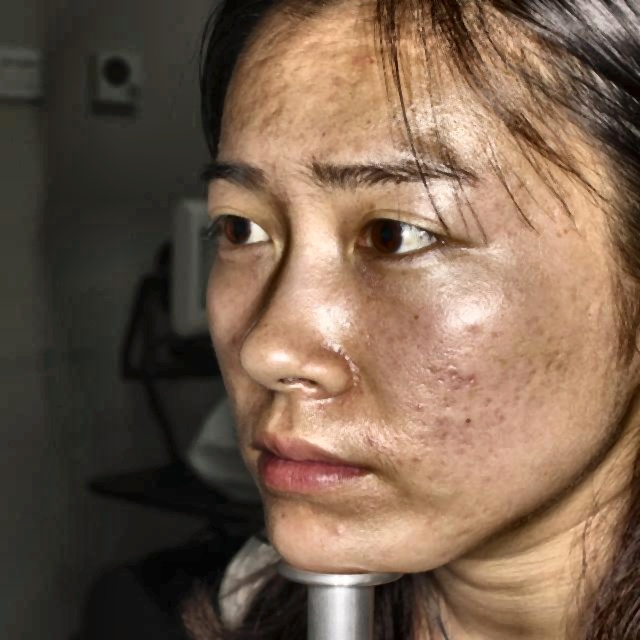comedone: (352, 45, 386, 69), (329, 523, 348, 539)
